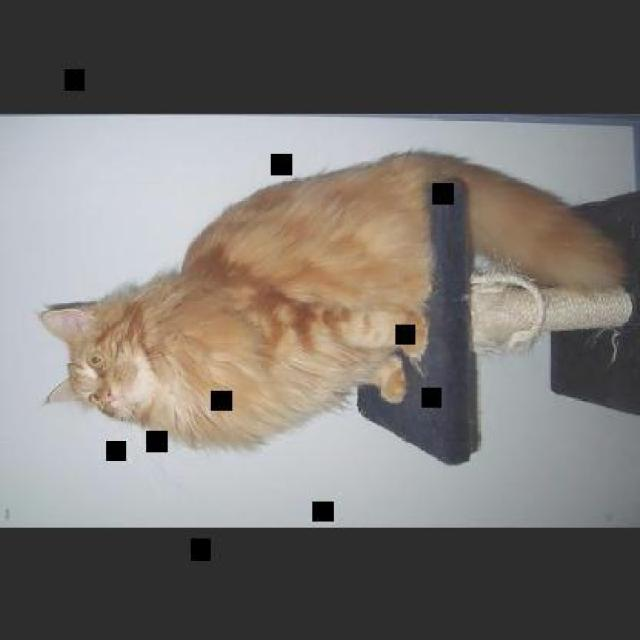unauthorized: (36, 147, 630, 450)
